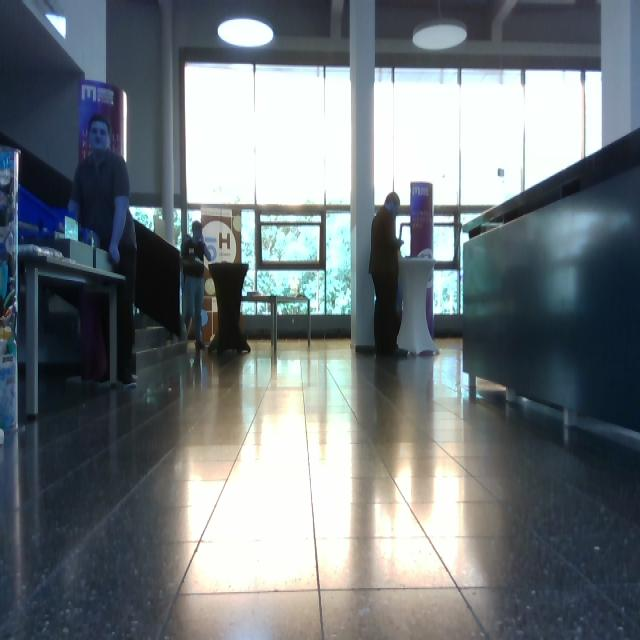light bulb: (217, 17, 275, 49), (412, 20, 468, 50), (46, 13, 67, 38)
person: (67, 113, 139, 389), (369, 192, 405, 357), (181, 221, 213, 350)
pillar: (349, 1, 376, 353), (410, 181, 435, 338)
table: (22, 242, 129, 421)
tiled floor: (2, 333, 639, 638)
